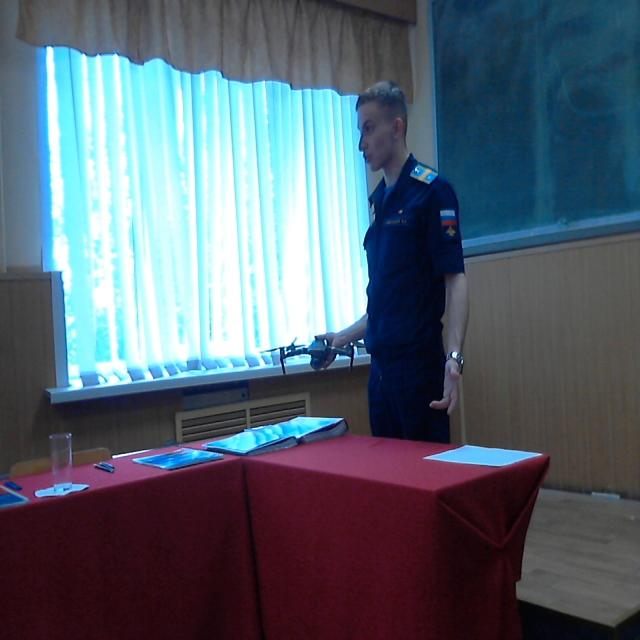drone: (265, 313, 369, 378)
